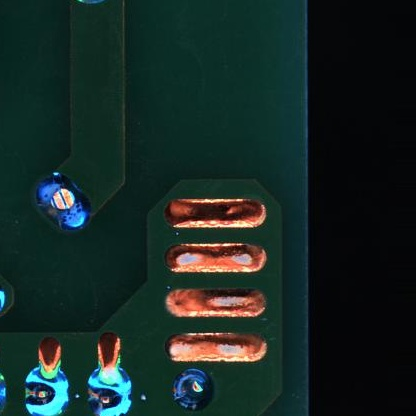spot: (33, 172, 92, 232), (85, 366, 135, 416), (23, 365, 72, 416), (172, 368, 217, 414)
